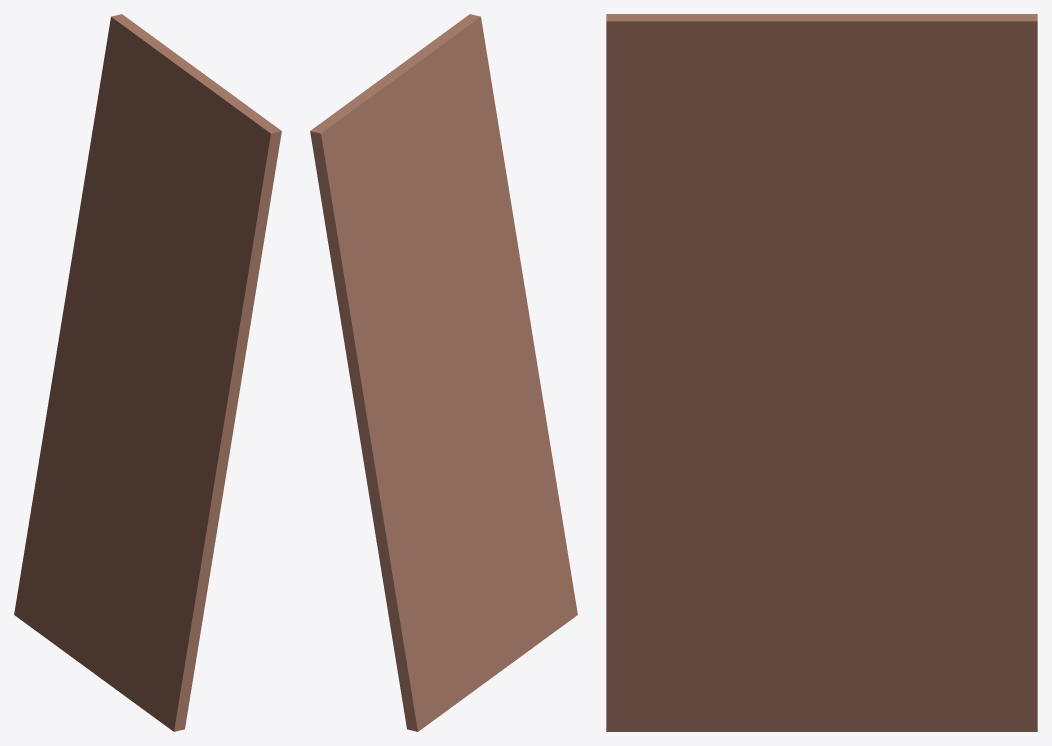
Rendered from mur fond etage2.FBX.
3 views of the same model, side by side, from view 1: azimuth 30°, elevation 25°; view 2: azimuth 150°, elevation 25°; view 3: azimuth 270°, elevation 25° (orthographic). The views are drawn at different scales.
Parts seen in each view (by area): view 1: mur fond etage 2; view 2: mur fond etage 2; view 3: mur fond etage 2.
Part boxes in pixels (x1=…): mur fond etage 2: x1=14, y1=14, x2=281, y2=731; mur fond etage 2: x1=310, y1=14, x2=577, y2=731; mur fond etage 2: x1=606, y1=14, x2=1037, y2=731.
Bounding box in the file's own units: 39.42 × 201 × 101.
Materials: 1 (1 with a texture image).
